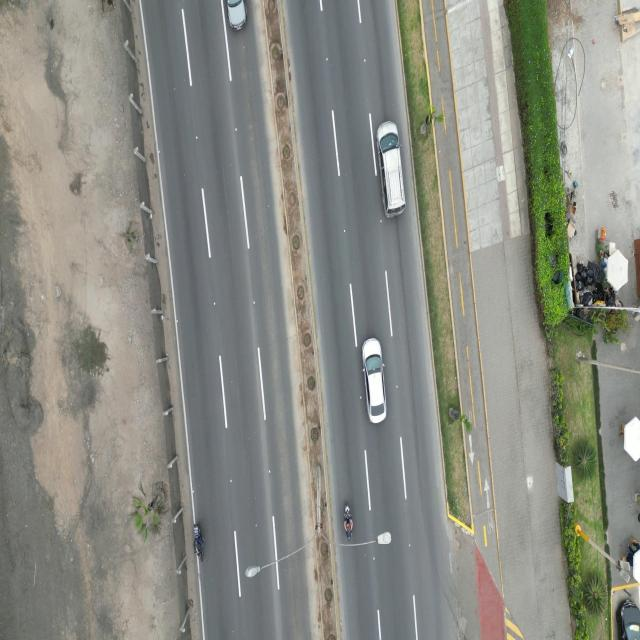Car: (219, 0, 265, 40)
Cycle: (376, 121, 405, 216), (184, 506, 217, 574), (362, 338, 386, 423), (339, 498, 362, 546), (615, 598, 640, 639), (620, 537, 639, 577), (420, 109, 438, 137)
